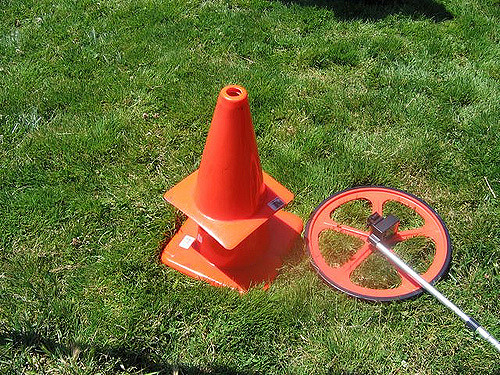trafficcone: (160, 83, 306, 295)
